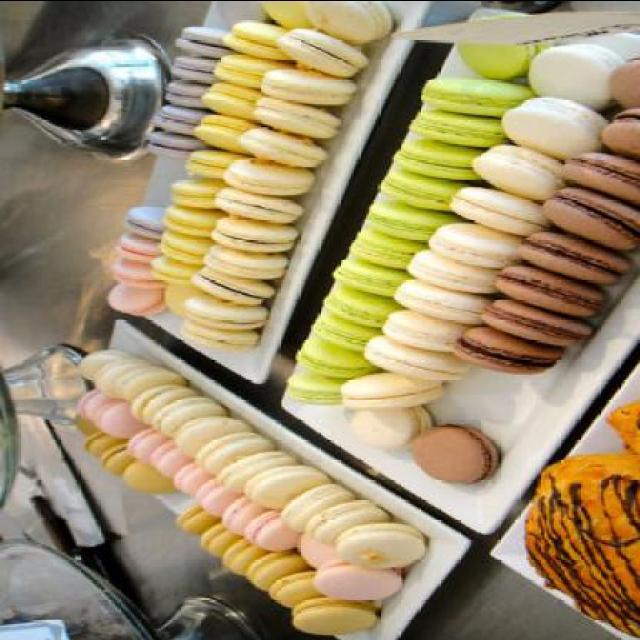Macaron: (64, 1, 612, 630)
